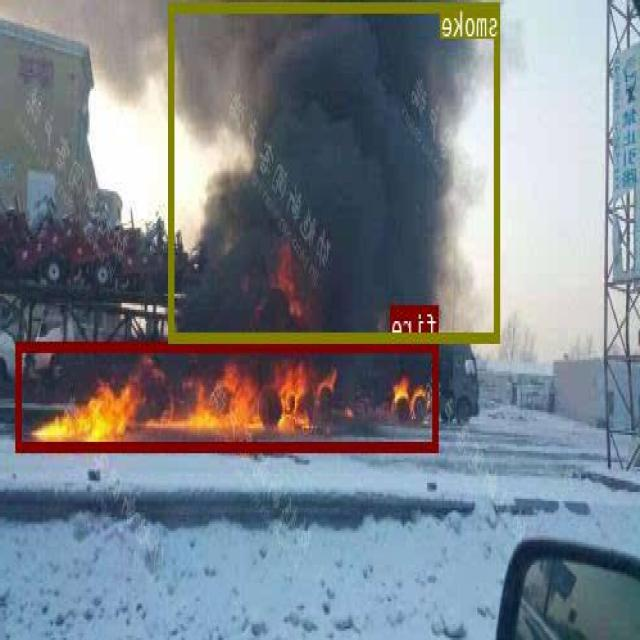fire: (17, 342, 439, 449)
smoke: (170, 1, 500, 342)
